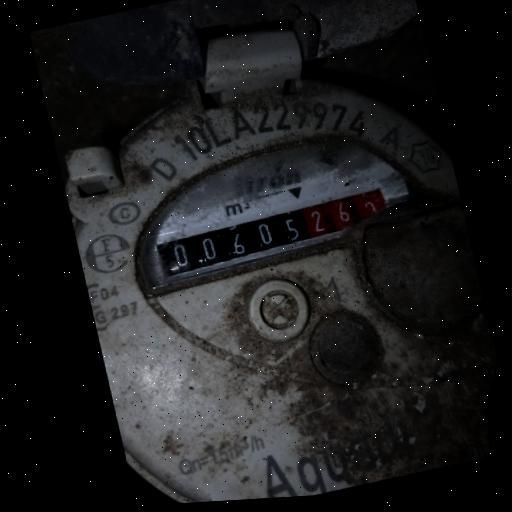0: (250, 215, 278, 252), (167, 236, 194, 274), (195, 229, 222, 266)
2: (301, 201, 330, 239), (352, 187, 383, 220)
5: (277, 209, 304, 245)
6: (326, 196, 355, 232), (223, 222, 251, 259)
border_water_meter_number: (151, 184, 393, 278)
